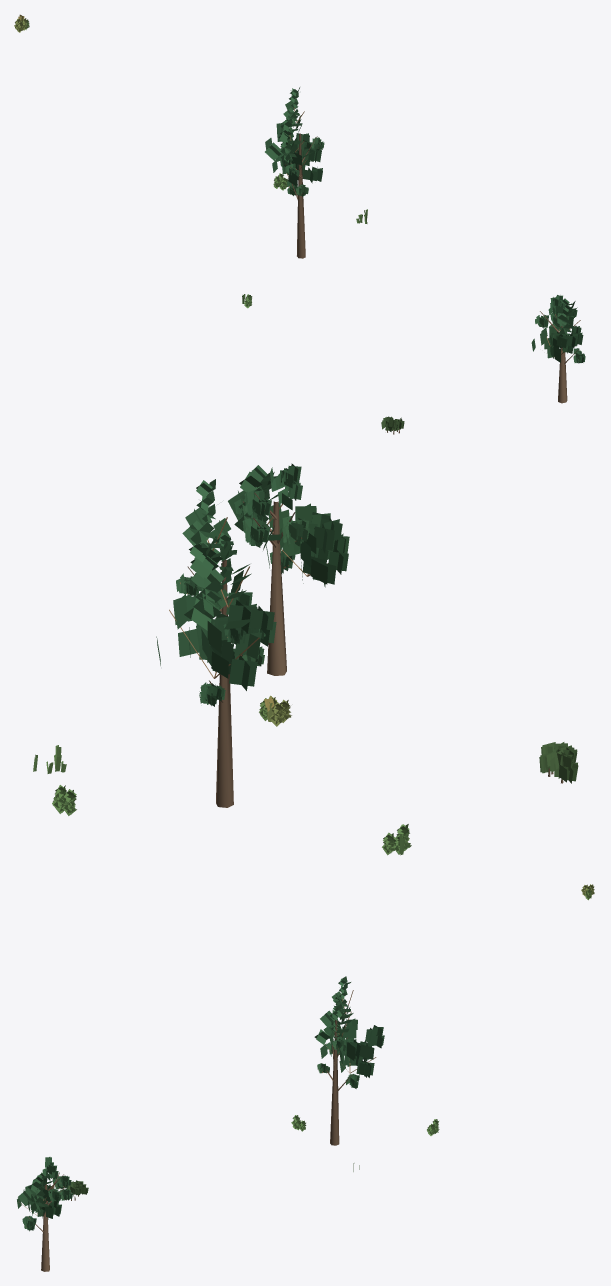
The model's file is arch_land_scatter_c22_19.glb.
3 views of the same model, one above another, from view 1: azimuth 30°, elevation 25°; view 2: azimuth 150°, elevation 25°; view 3: azimuth 270°, elevation 25° (orthographic). The views are drawn at different scales.
Visible parts, largest first — view 1: arch_land_scatter_c22_19; view 2: arch_land_scatter_c22_19; view 3: arch_land_scatter_c22_19.
Part boxes in pixels (x1,y1,x2,y2): arch_land_scatter_c22_19: [14, 14, 585, 434]; arch_land_scatter_c22_19: [33, 463, 578, 855]; arch_land_scatter_c22_19: [17, 884, 594, 1271].
Size of the model in its own units: 24.76 by 19.84 by 40.65.
